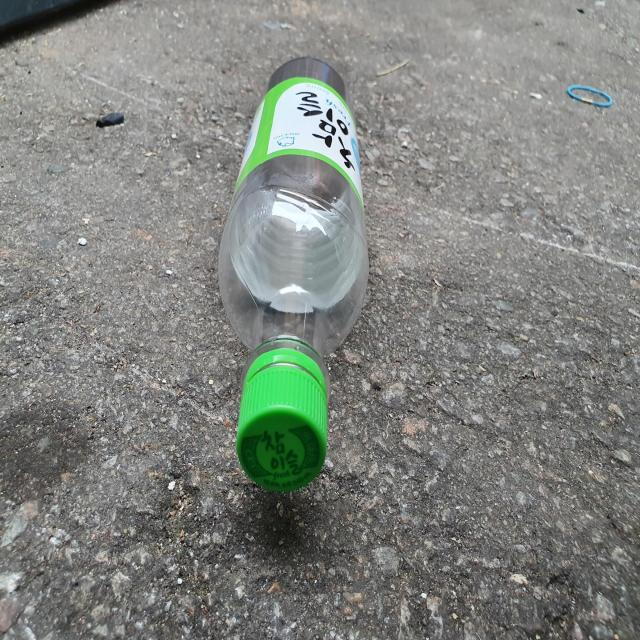plastic: (218, 56, 369, 492)
